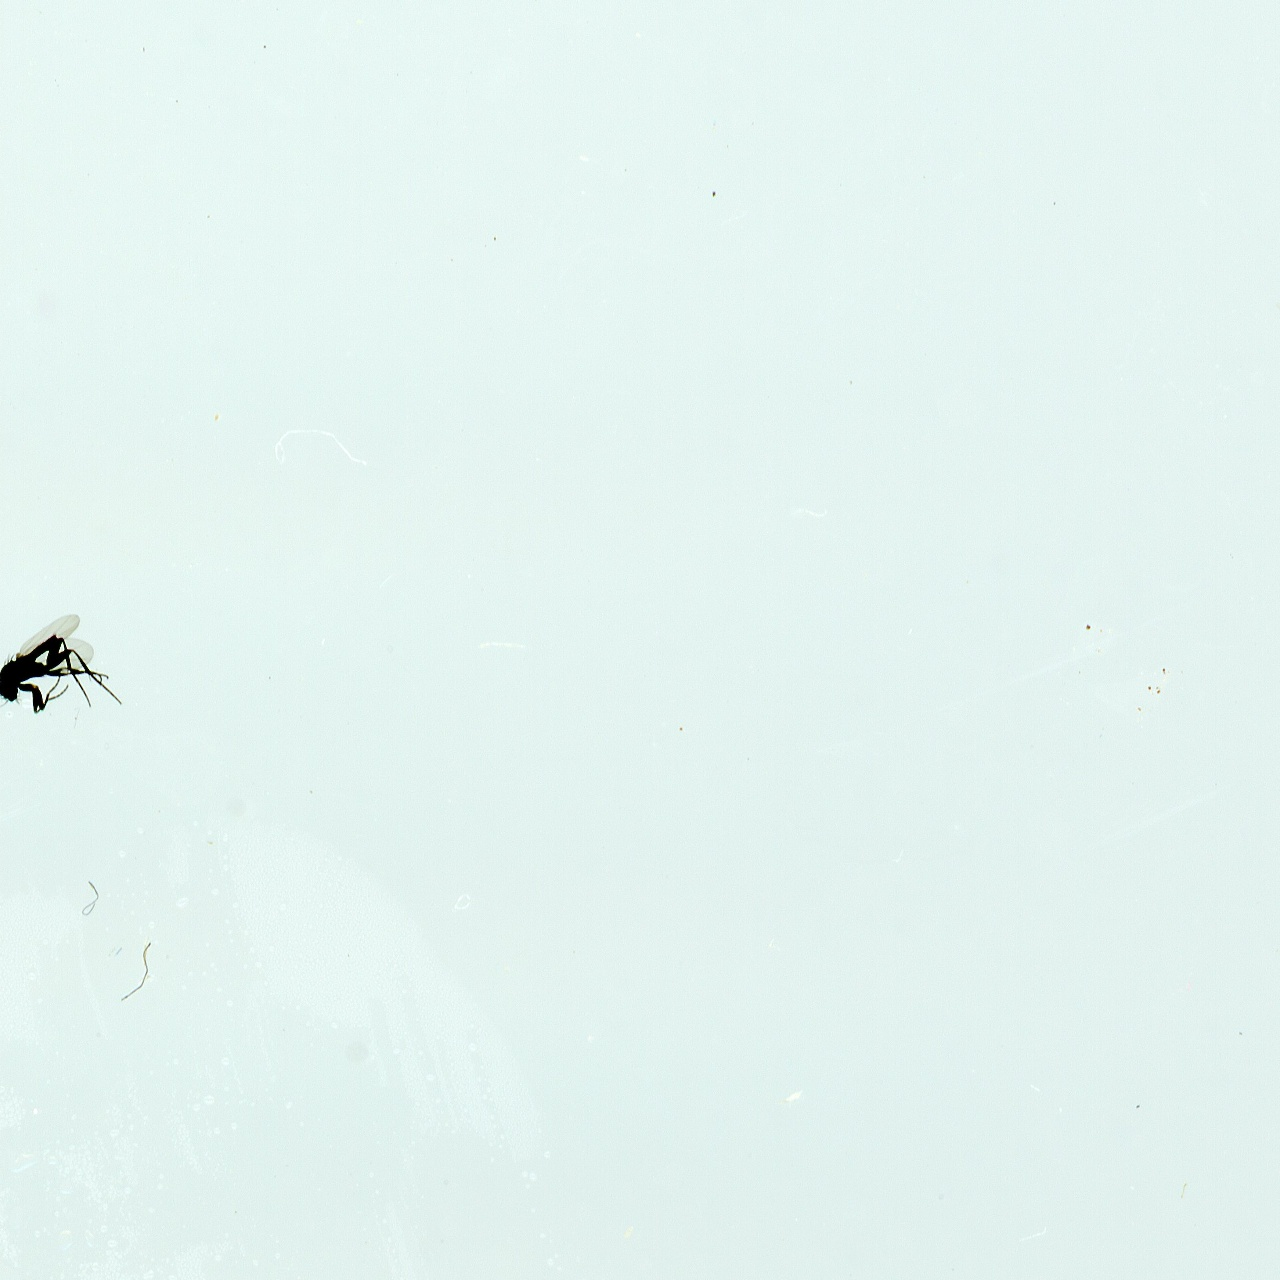arthropod: (0, 611, 124, 717)
